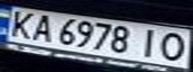6: (51, 16, 78, 46)
7: (90, 20, 115, 52)
8: (109, 22, 136, 55)
9: (72, 19, 96, 49)
A: (24, 11, 57, 43)
I: (133, 26, 166, 59)
K: (3, 8, 39, 39)
O: (151, 29, 193, 62)
